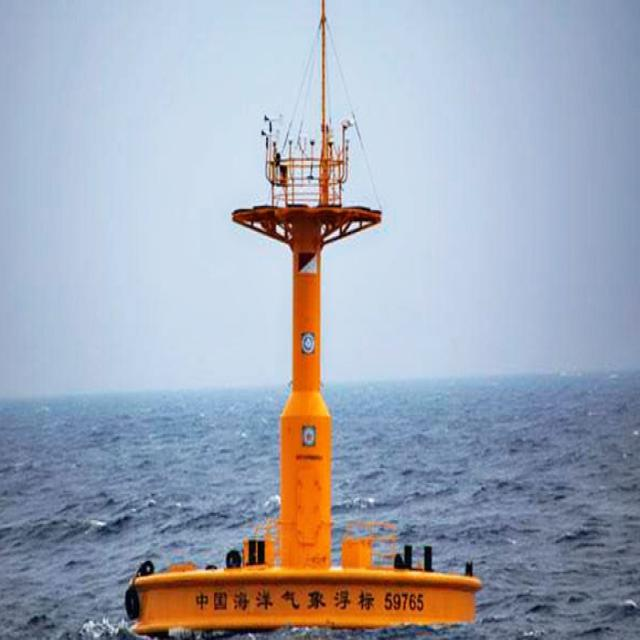buoy: (127, 56, 477, 636)
